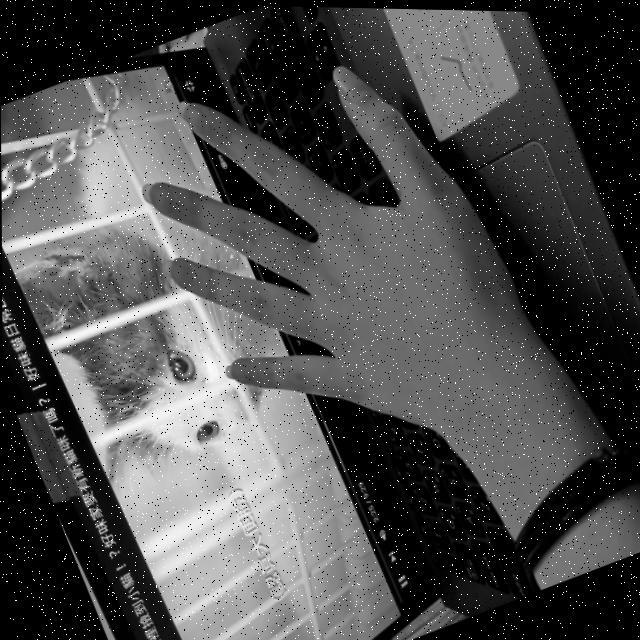no-gloves: (104, 9, 546, 492)
